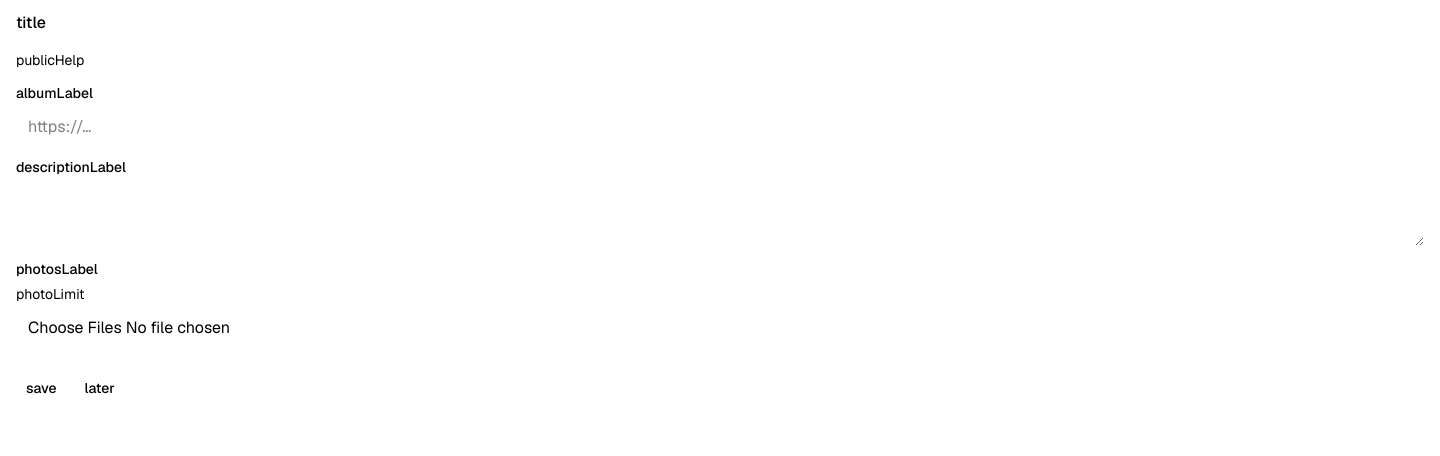
Scenario: preserves text when saving fails
In the text box labelled "descriptionLabel": (720, 214) [16,182,1424,246], type "Keep my text"
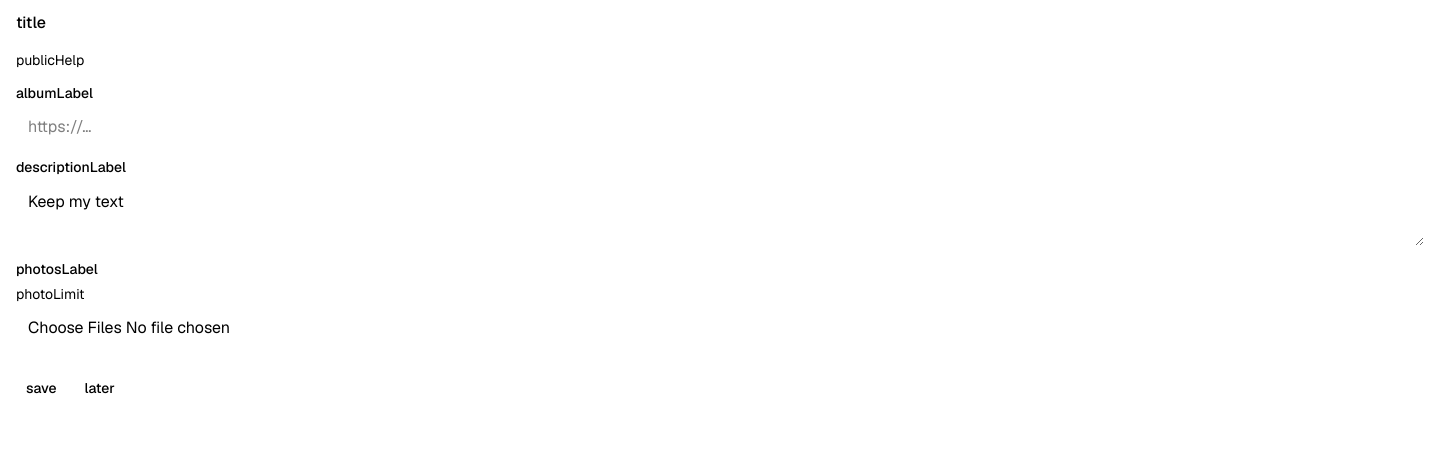
Click the button "save": (41, 388) [16,372,67,404]
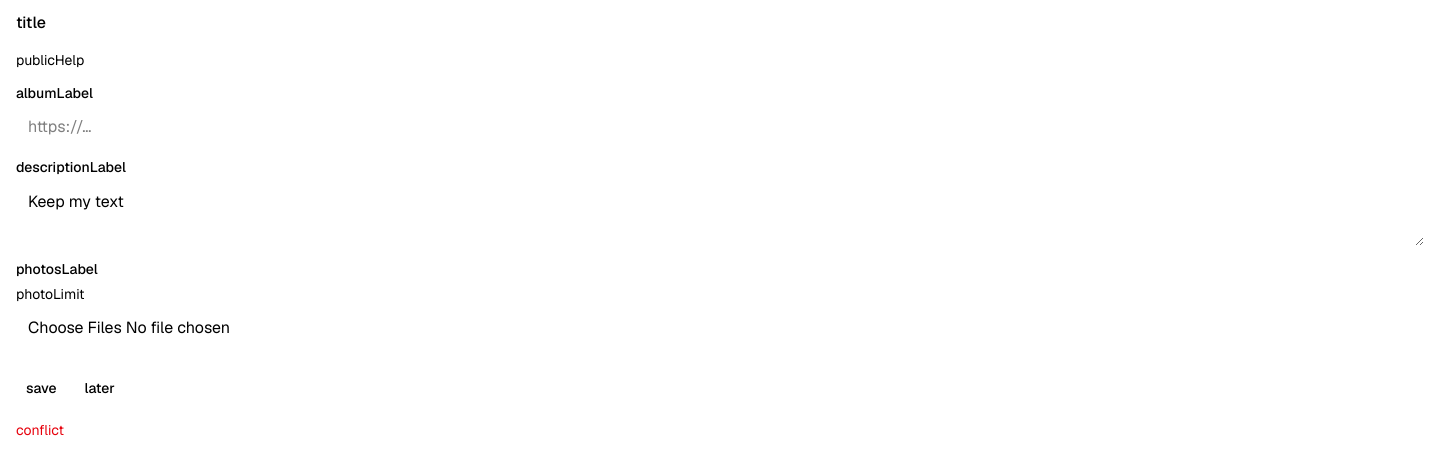
Now the message reads "conflict", box [16,421,64,439]
